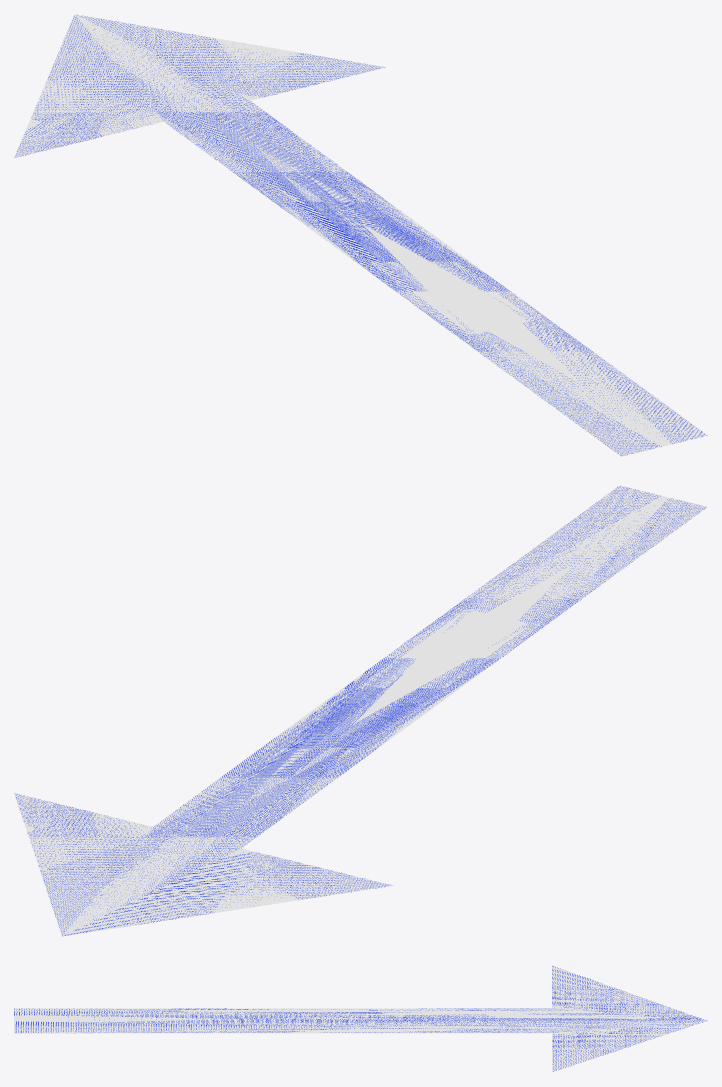
The model's file is arrow32.dae.
3 renders of one model, top to bottom at view 1: azimuth 30°, elevation 25°; view 2: azimuth 150°, elevation 25°; view 3: azimuth 270°, elevation 25°, orthographic. The views are drawn at different scales.
Parts seen in each view (by area): view 1: SketchUp; view 2: SketchUp; view 3: SketchUp.
Part boxes in pixels (x1,y1,x2,y2): SketchUp: [14, 14, 707, 456]; SketchUp: [14, 485, 707, 936]; SketchUp: [14, 965, 707, 1072].
Size of the model in its own units: 168 by 462 by 0.
